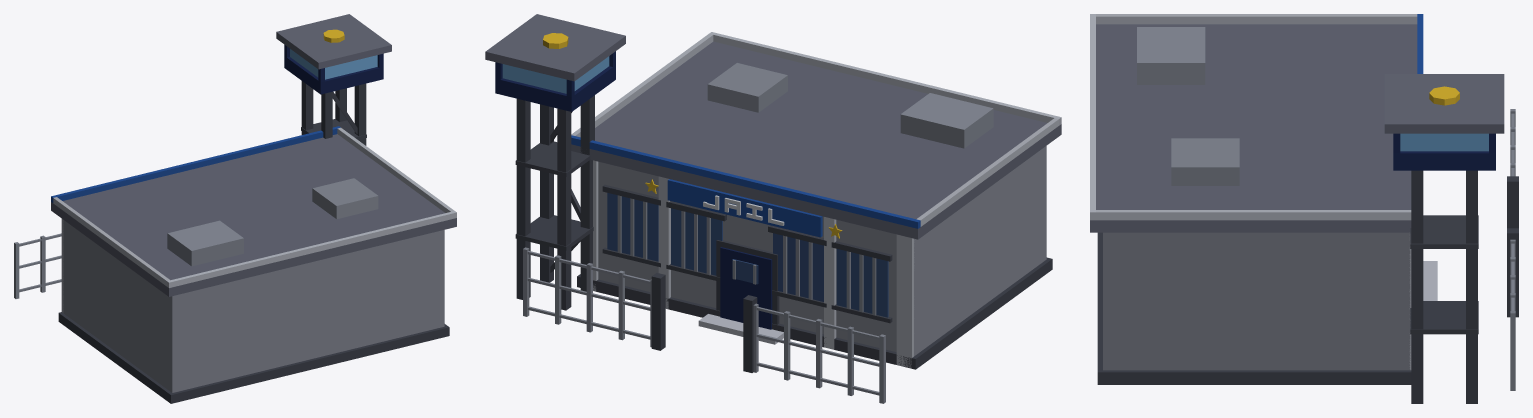
File: Decor_PoliceStation_Cells.fbx
3 views of the same model, side by side, from view 1: azimuth 30°, elevation 25°; view 2: azimuth 150°, elevation 25°; view 3: azimuth 270°, elevation 25° (orthographic). The views are drawn at different scales.
Parts seen in each view (by area): view 1: Cells_Body, Cells_Roof; view 2: Cells_Body, Cells_Roof; view 3: Cells_Roof, Cells_Body.
Boxes of the visible parts, left/top/right/bottom form: Cells_Body: left=14, top=44, right=449, bottom=403; Cells_Roof: left=51, top=14, right=456, bottom=296; Cells_Body: left=495, top=51, right=1052, bottom=403; Cells_Roof: left=485, top=14, right=1061, bottom=239; Cells_Roof: left=1090, top=14, right=1504, bottom=232; Cells_Body: left=1097, top=109, right=1518, bottom=403.
Size of the model in its own units: 31.5 by 19.1 by 25.
